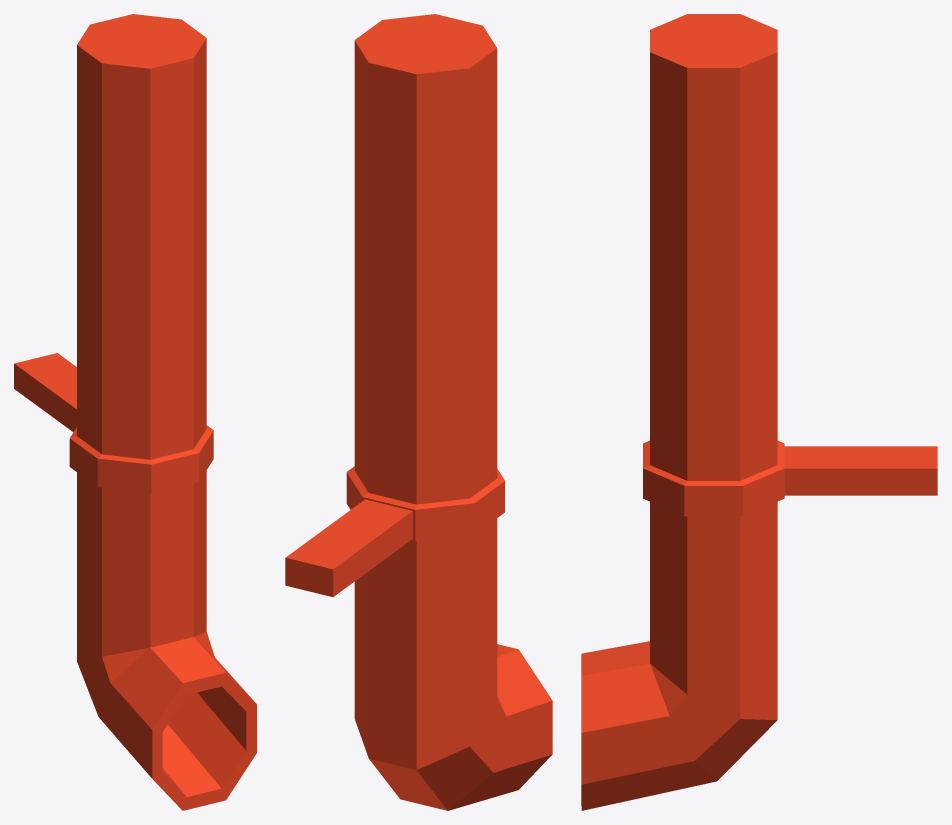
File: SM_Gutter_Pipe_Bottom.fbx
3 views of the same model, side by side, from view 1: azimuth 30°, elevation 25°; view 2: azimuth 150°, elevation 25°; view 3: azimuth 270°, elevation 25° (orthographic). The views are drawn at different scales.
Parts seen in each view (by area): view 1: gutter-pipe-bottom; view 2: gutter-pipe-bottom; view 3: gutter-pipe-bottom.
Part boxes in pixels (x1,y1,x2,y2): gutter-pipe-bottom: (14,14,256,810); gutter-pipe-bottom: (285,14,552,810); gutter-pipe-bottom: (581,14,937,810).
Bounding box in the file's own units: 0.1436 × 0.8482 × 0.361.
